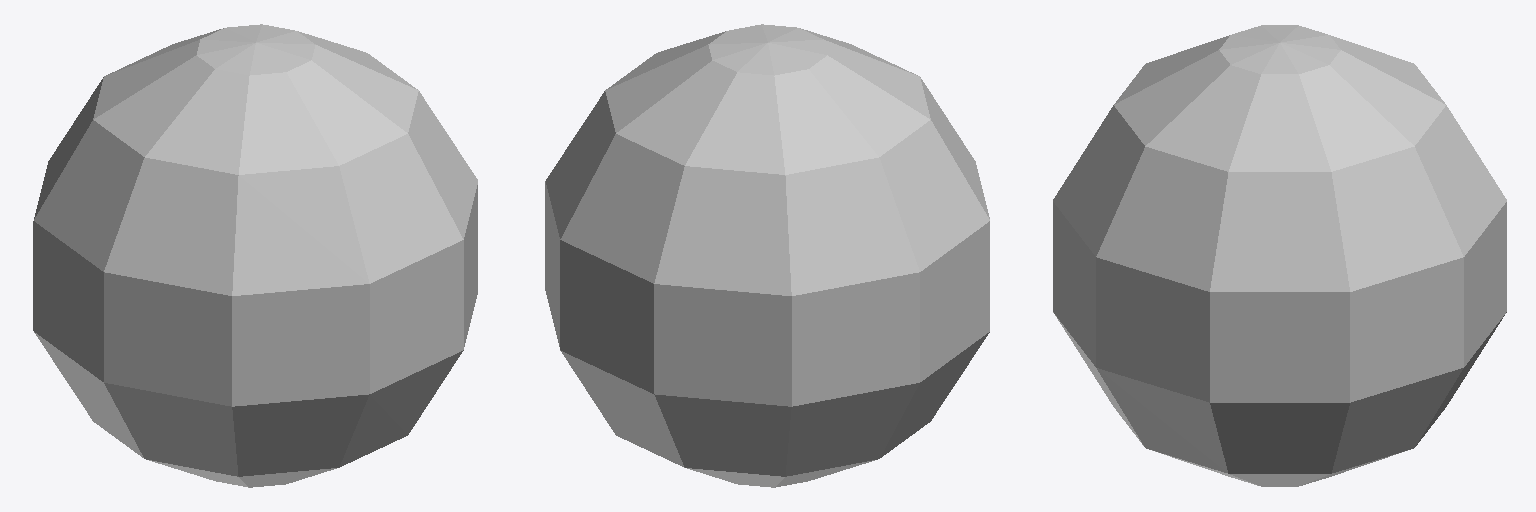
Rendered from trackpad_touch.obj.
3 views of the same model, side by side, from view 1: azimuth 30°, elevation 25°; view 2: azimuth 150°, elevation 25°; view 3: azimuth 270°, elevation 25° (orthographic).
Visible parts, largest first — view 1: trackpad_touch1:group1 trackpad_touch1:track_pip trackpad_touch1; view 2: trackpad_touch1:group1 trackpad_touch1:track_pip trackpad_touch1; view 3: trackpad_touch1:group1 trackpad_touch1:track_pip trackpad_touch1.
Part boxes in pixels (x1,y1,x2,y2): trackpad_touch1:group1 trackpad_touch1:track_pip trackpad_touch1: (33,24,477,487); trackpad_touch1:group1 trackpad_touch1:track_pip trackpad_touch1: (545,24,989,487); trackpad_touch1:group1 trackpad_touch1:track_pip trackpad_touch1: (1053,25,1506,486).
Bounding box in the file's own units: 0.0041 × 0.0045 × 0.0043.